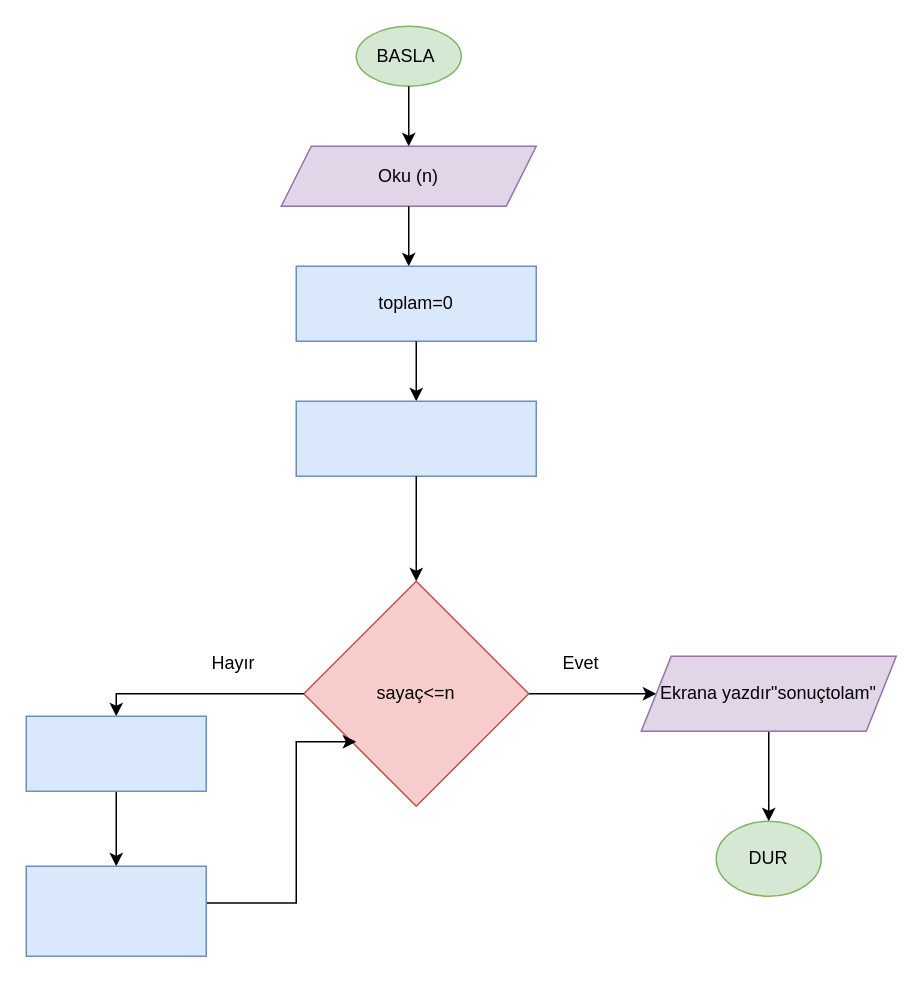
The diagram is 923 pixels wide and 983 high, and some of its shapes have lost their labels. The centre of each missing label's shape, as x and y in pixels:
"sayac= sayac +!" goes at point (115, 753).
"sayac=1" goes at point (415, 438).
"Toplam= TOplam+ sayac" goes at point (115, 910).
